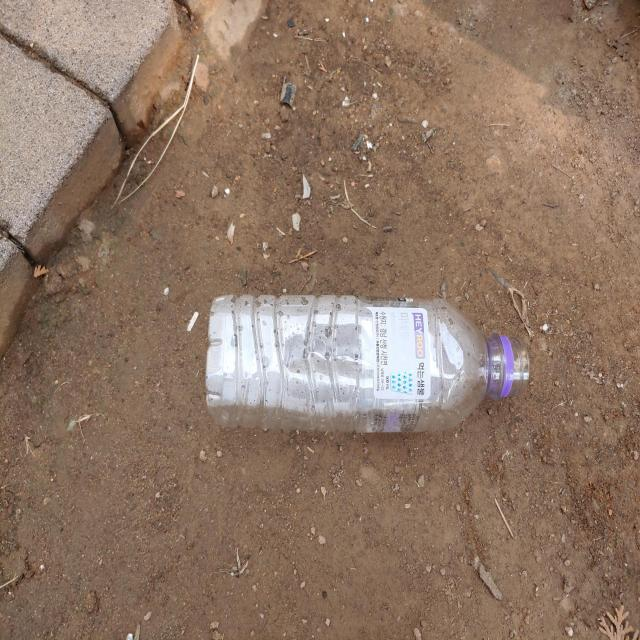plastic: (206, 295, 530, 433)
